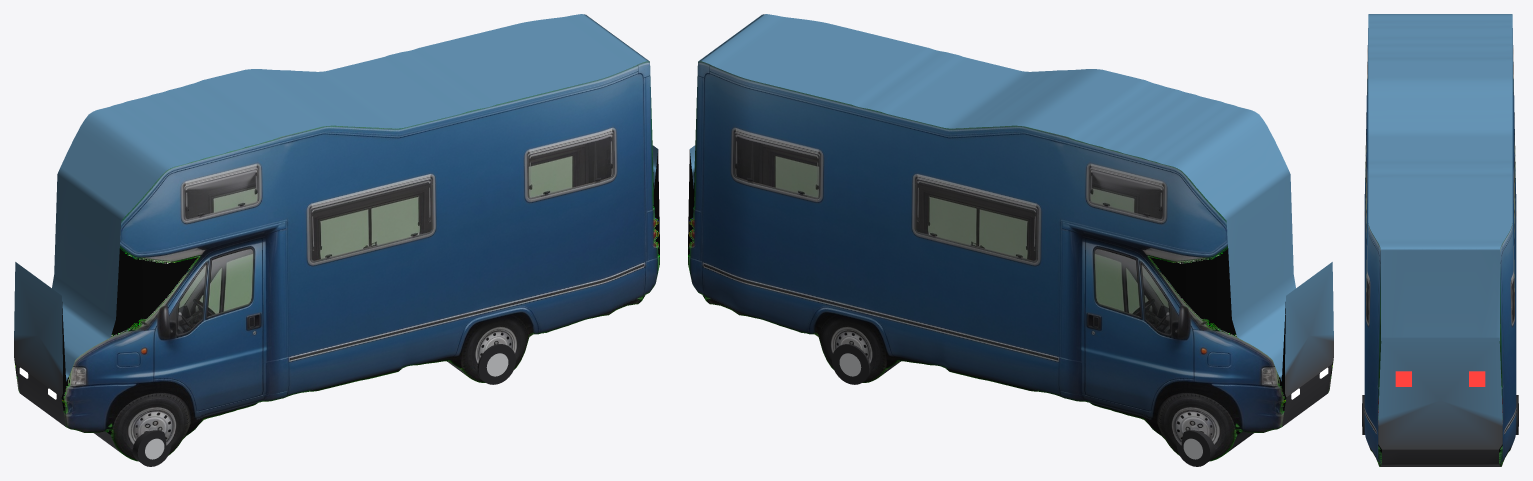
The picture shows the model from 3 angles, left to right: view 1: azimuth 30°, elevation 25°; view 2: azimuth 150°, elevation 25°; view 3: azimuth 270°, elevation 25°; orthographic projection. The views are drawn at different scales.
Visible parts, largest first — view 1: rv; view 2: rv; view 3: rv.
Part boxes in pixels (x1=…): rv: x1=14, y1=14, x2=659, y2=466; rv: x1=688, y1=14, x2=1333, y2=466; rv: x1=1362, y1=14, x2=1518, y2=466.
Size of the model in its own units: 7.43 by 3.58 by 1.84.
Materials: 8 (2 with a texture image).
